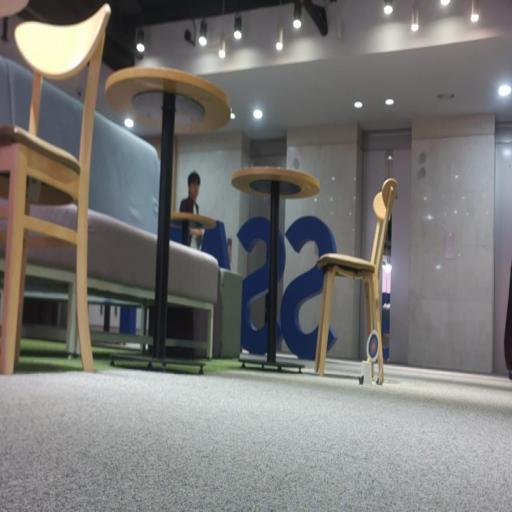target: (367, 329, 379, 362)
